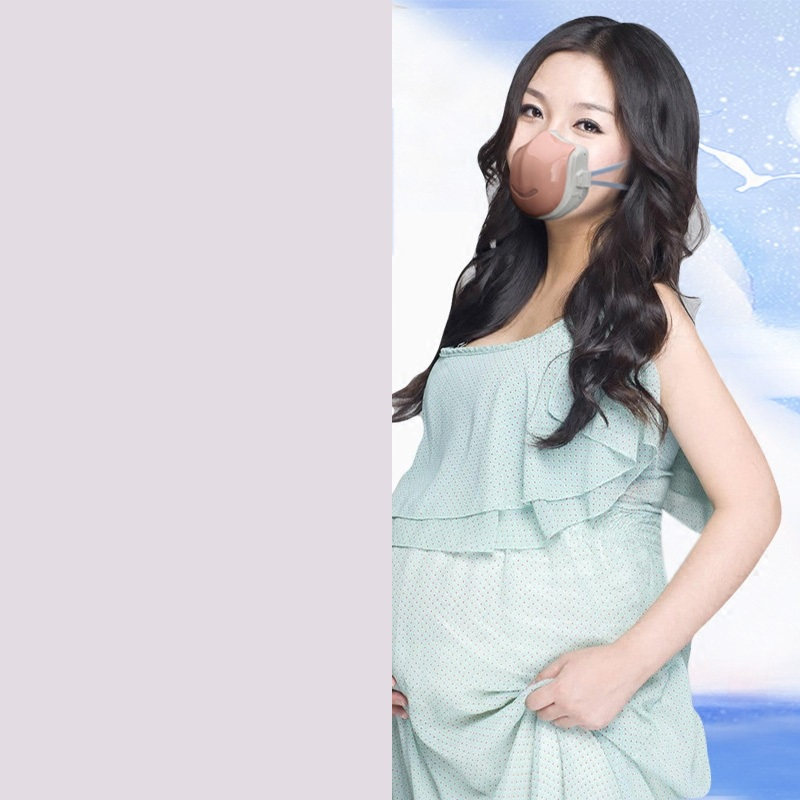face_mask: (502, 43, 635, 219)
